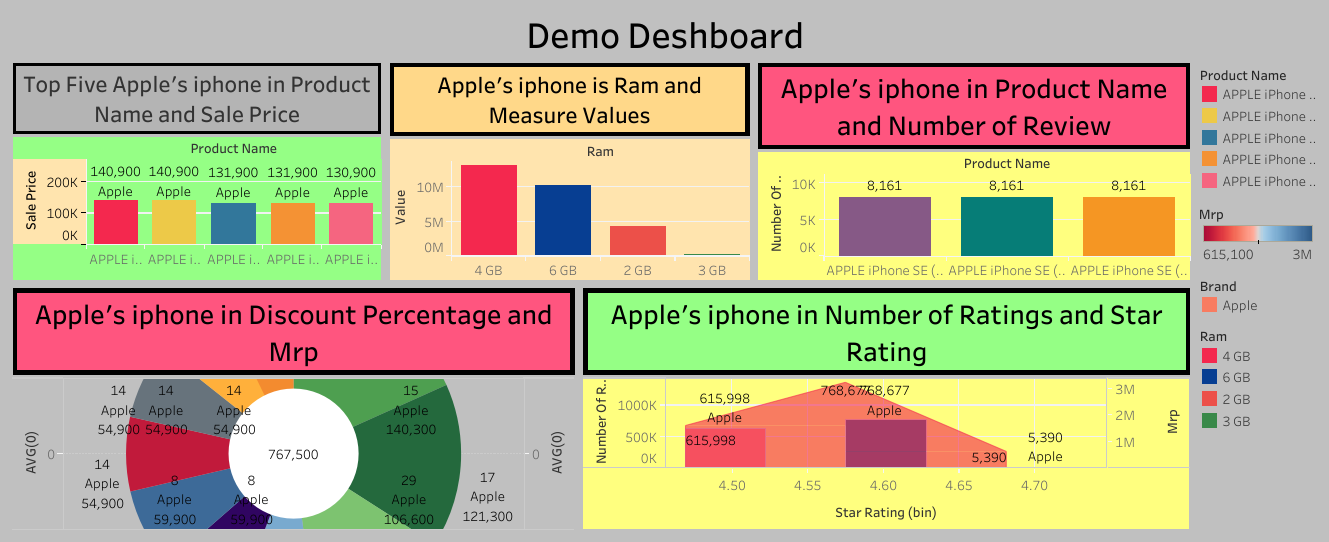

Layout of this report page (visuals, bound fields, positions):
{"tool":"tableau","page":{"name":"Dashboard 2","canvas":[1000,1000],"units":"permille","ordinal":0},"visuals":[{"type":"text","box":[6.9,13.5,986.1,91.2]},{"type":"worksheet","title":"Sheet 1","mark":"Automatic","rows":["Sale Price"],"cols":["Product Name"],"box":[6.9,104.7,280.9,418.1]},{"type":"worksheet","title":"Sheet 2","mark":"Automatic","cols":["Ram"],"box":[287.8,104.7,274.9,418.1]},{"type":"worksheet","title":"Sheet 5","mark":"Automatic","rows":["Number Of Reviews"],"cols":["Product Name"],"box":[562.8,104.7,328.2,418.1]},{"type":"legend","title":"Sheet 1","param":"[federated.1hvaf3400we9i112ibe6h10kigdb].[none:Product Name:nk]","box":[890.9,104.7,102.2,212.8]},{"type":"legend","title":"Sheet 4","param":"[federated.1hvaf3400we9i112ibe6h10kigdb].[sum:Mrp:qk]","box":[890.9,317.6,102.2,109.8]},{"type":"legend","title":"Sheet 4","param":"[federated.1hvaf3400we9i112ibe6h10kigdb].[none:Brand:nk]","box":[890.9,427.3,102.2,77.7]},{"type":"legend","title":"Sheet 2","param":"[federated.1hvaf3400we9i112ibe6h10kigdb].[none:Ram:nk]","box":[890.9,505,102.2,179.1]},{"type":"worksheet","title":"Sheet 3","mark":"Pie","rows":["Calculation_410390525403103242","Calculation_410390525403152396"],"box":[6.9,522.9,425.1,463.6]},{"type":"worksheet","title":"Sheet 4","mark":"Bar","rows":["Number Of Ratings","Mrp"],"cols":["Star Rating (bin)"],"box":[432,522.9,458.9,463.6]}]}

Visuals, with their boxes on the dashboard's canvas, which has no fixed pixel size, in thousandths of its width and height (x1, y1, x2, y2). These are canvas units, not pixel positions in the 1329x542 screenshot, which may show the page scaled, cropped or inside an application window:
text: {"x1": 7, "y1": 14, "x2": 993, "y2": 105}
"Sheet 1" worksheet: {"x1": 7, "y1": 105, "x2": 288, "y2": 523}
"Sheet 2" worksheet: {"x1": 288, "y1": 105, "x2": 563, "y2": 523}
"Sheet 5" worksheet: {"x1": 563, "y1": 105, "x2": 891, "y2": 523}
"Sheet 1" legend: {"x1": 891, "y1": 105, "x2": 993, "y2": 318}
"Sheet 4" legend: {"x1": 891, "y1": 318, "x2": 993, "y2": 427}
"Sheet 4" legend: {"x1": 891, "y1": 427, "x2": 993, "y2": 505}
"Sheet 2" legend: {"x1": 891, "y1": 505, "x2": 993, "y2": 684}
"Sheet 3" worksheet (Pie marks): {"x1": 7, "y1": 523, "x2": 432, "y2": 986}
"Sheet 4" worksheet (Bar marks): {"x1": 432, "y1": 523, "x2": 891, "y2": 986}
